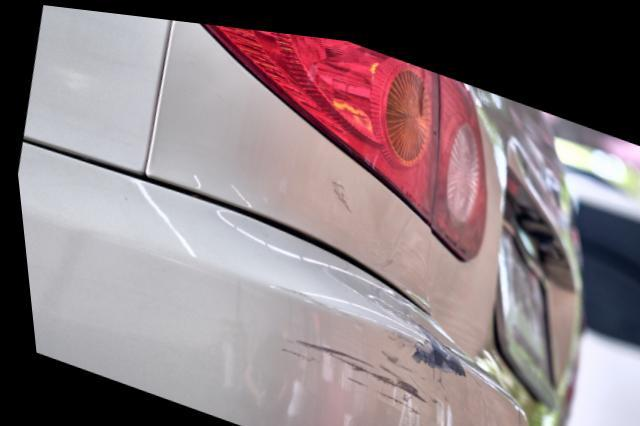scratch: (267, 301, 467, 407)
